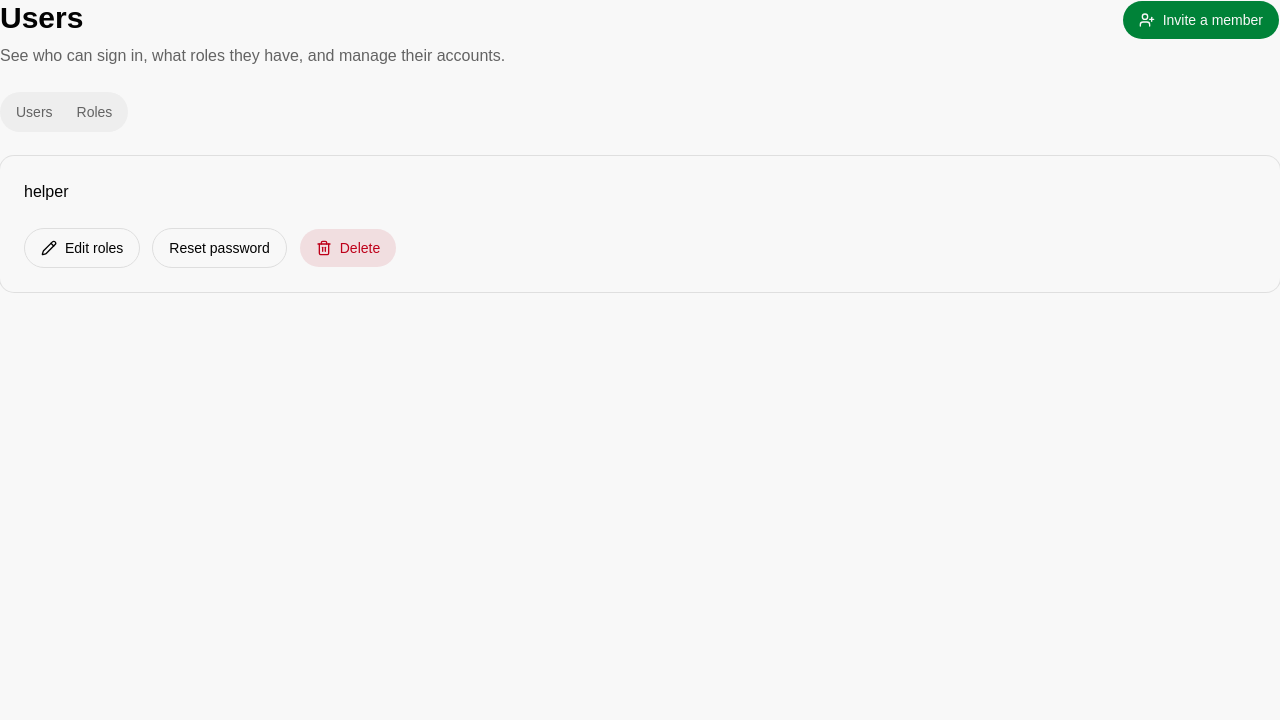
UsersPage › shows the server's reason when saving roles fails and keeps the dialog open
The width and height of the screenshot is (1280, 720).
Click the button "Edit roles".
click(82, 248)  # box [24,228,140,268]
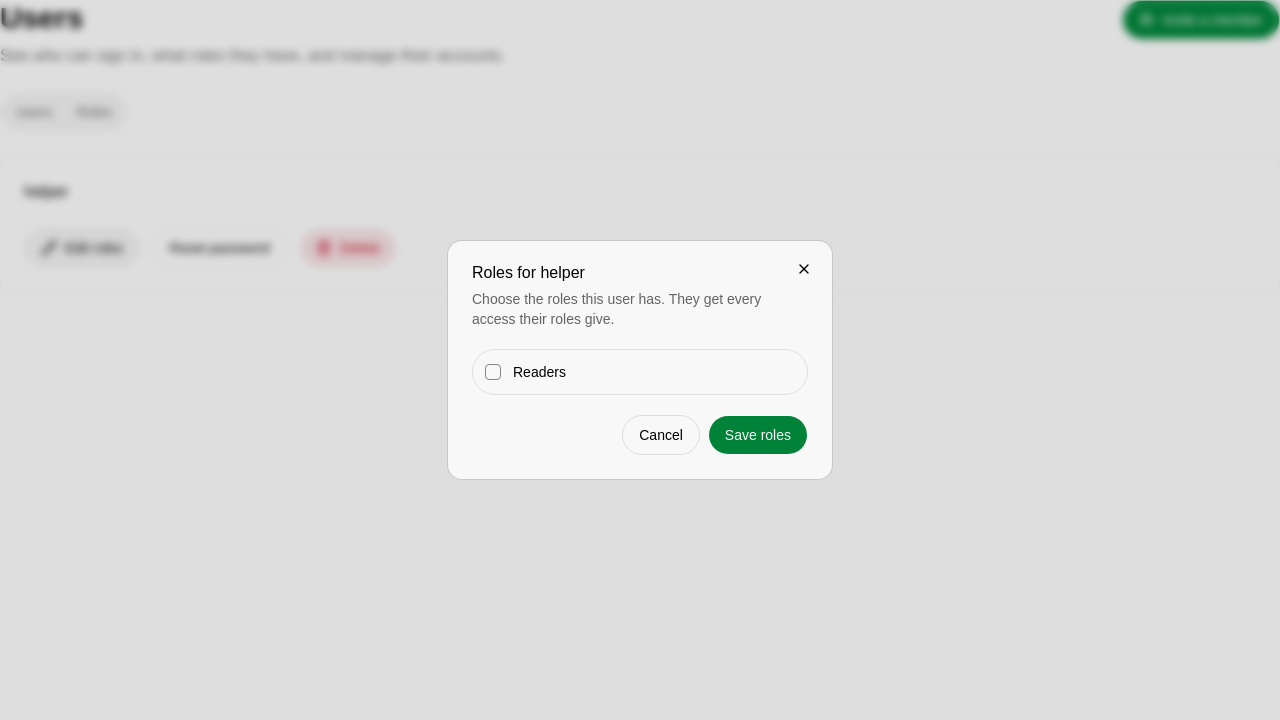
Click the button "Save roles".
click(758, 435)  # box [708,415,808,455]
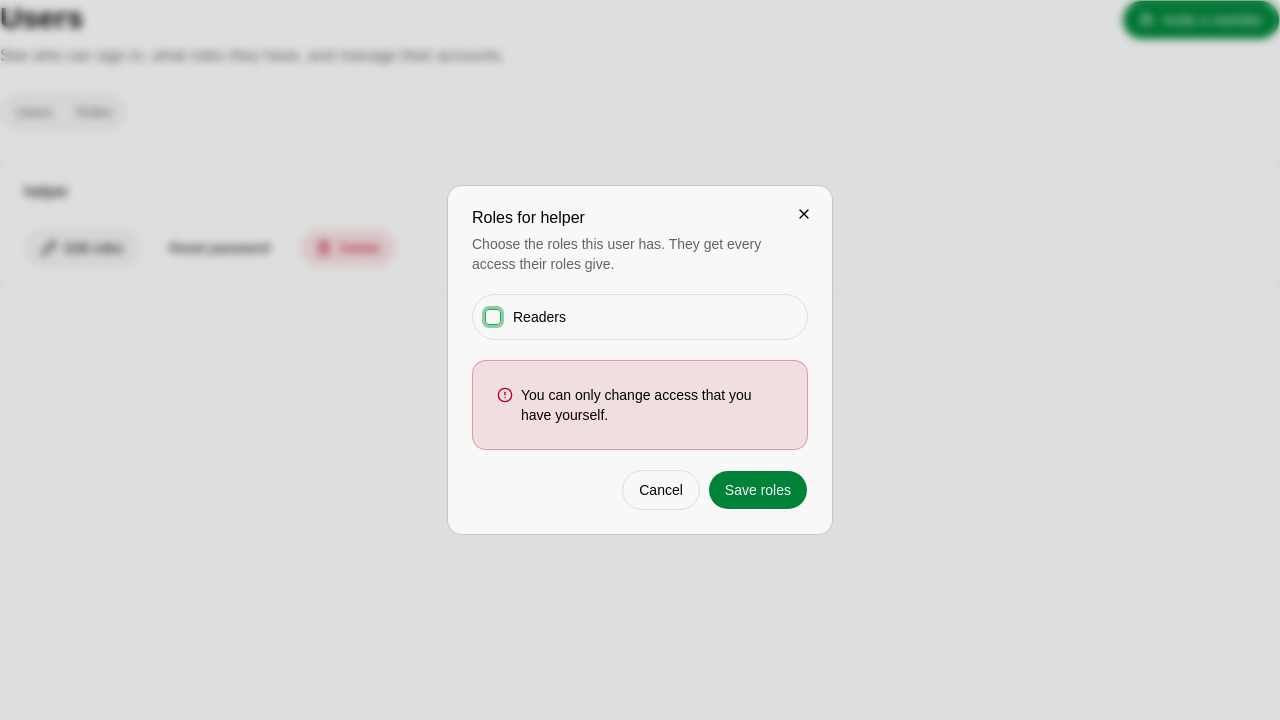
Expected: the dialog shows "You can only change access that you have yourself.", [521,387,752,423]
